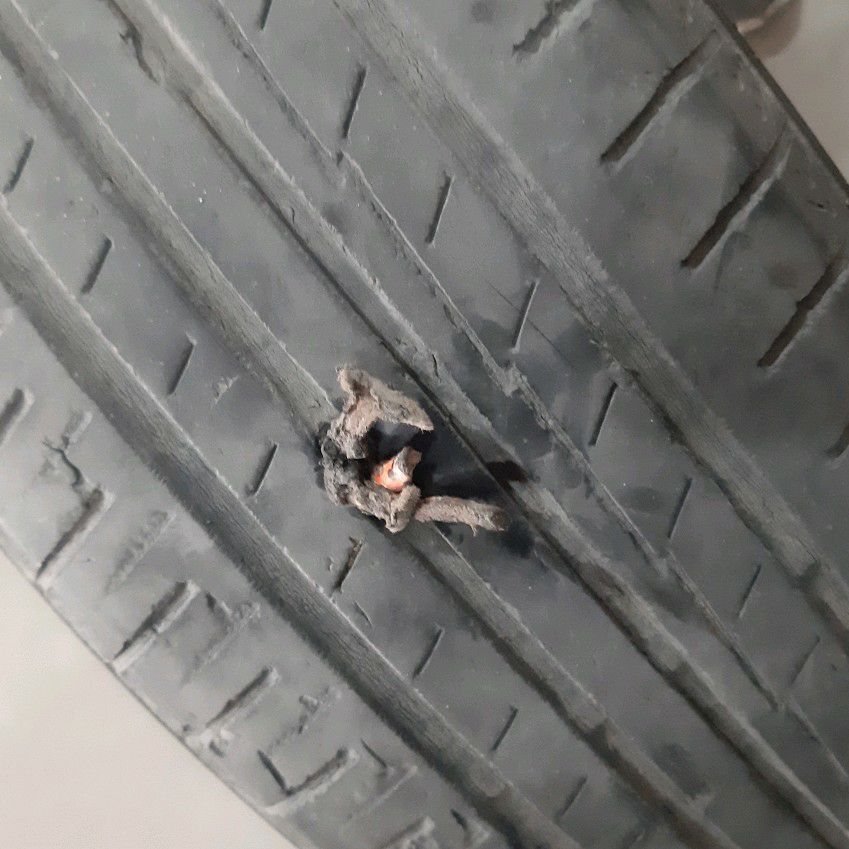tr: (318, 360, 515, 531)
